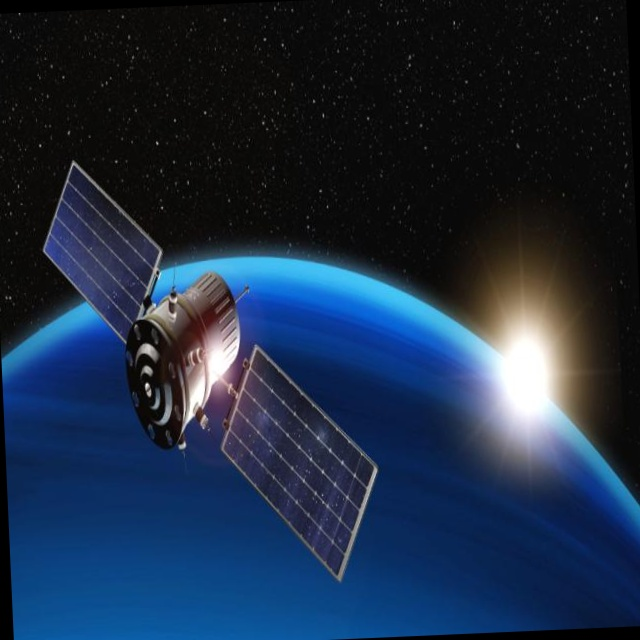medium_debris: (25, 131, 399, 640)
